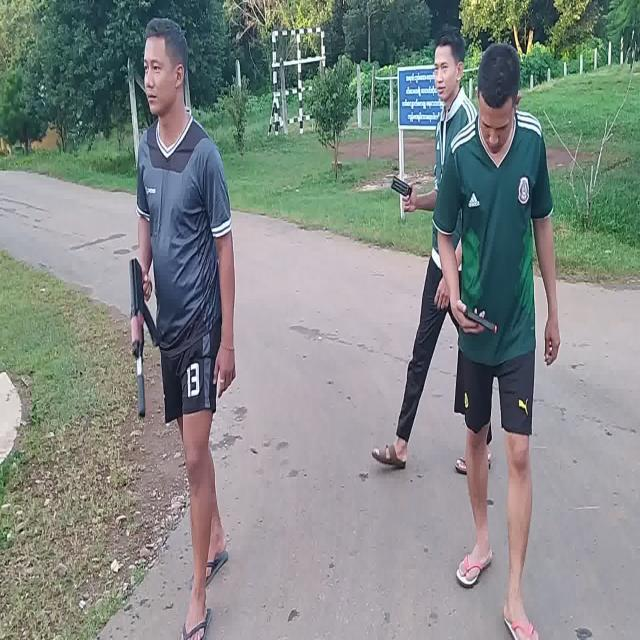gun: (127, 260, 161, 414), (468, 310, 495, 330)
